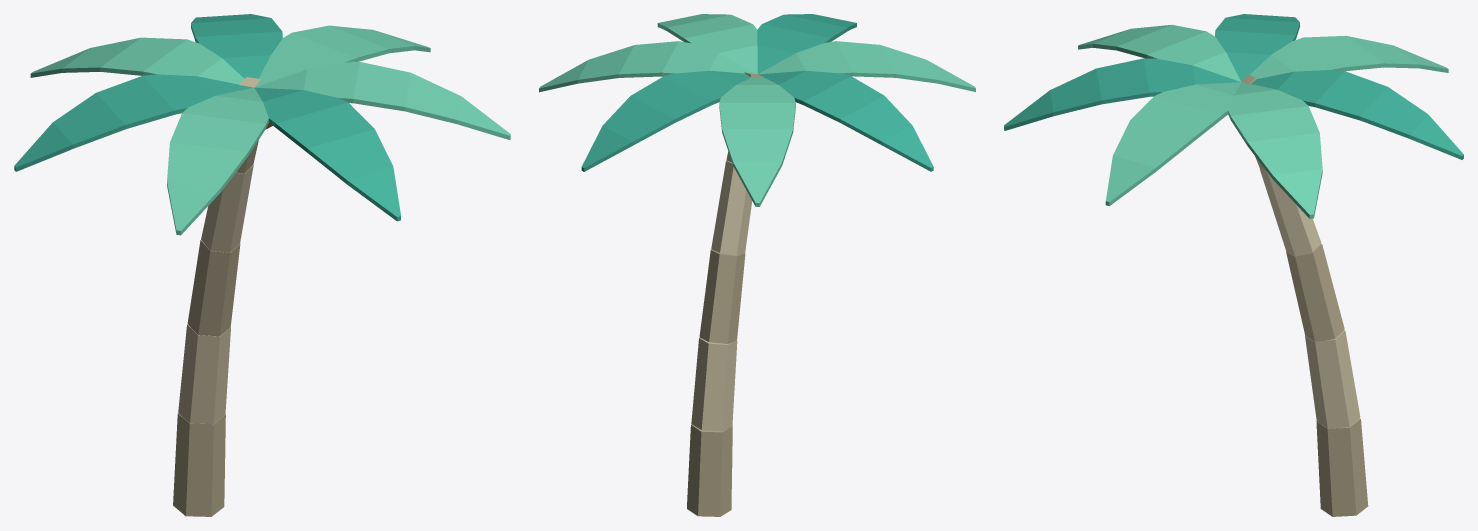
File: palm_tree.glb
3 views of the same model, side by side, from view 1: azimuth 30°, elevation 25°; view 2: azimuth 150°, elevation 25°; view 3: azimuth 270°, elevation 25° (orthographic). The views are drawn at different scales.
Parts seen in each view (by area): view 1: palm_tree; view 2: palm_tree; view 3: palm_tree.
Part boxes in pixels (<box>): palm_tree: <box>14,14,510,516</box>; palm_tree: <box>539,14,975,516</box>; palm_tree: <box>1004,14,1463,516</box>.
Bounding box in the file's own units: 6.24 × 6.48 × 6.18.
